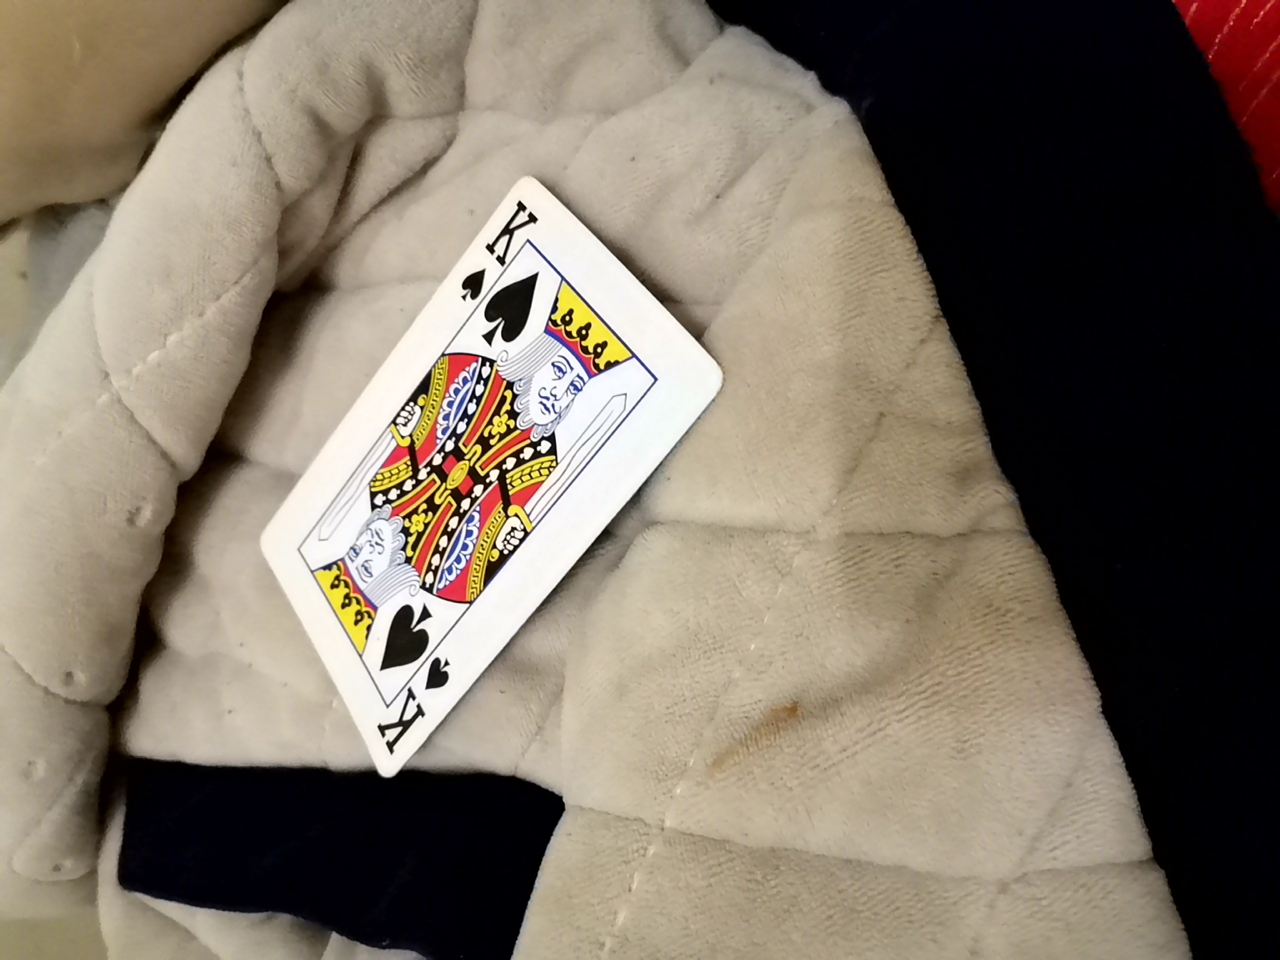ht k: (244, 172, 725, 782)
